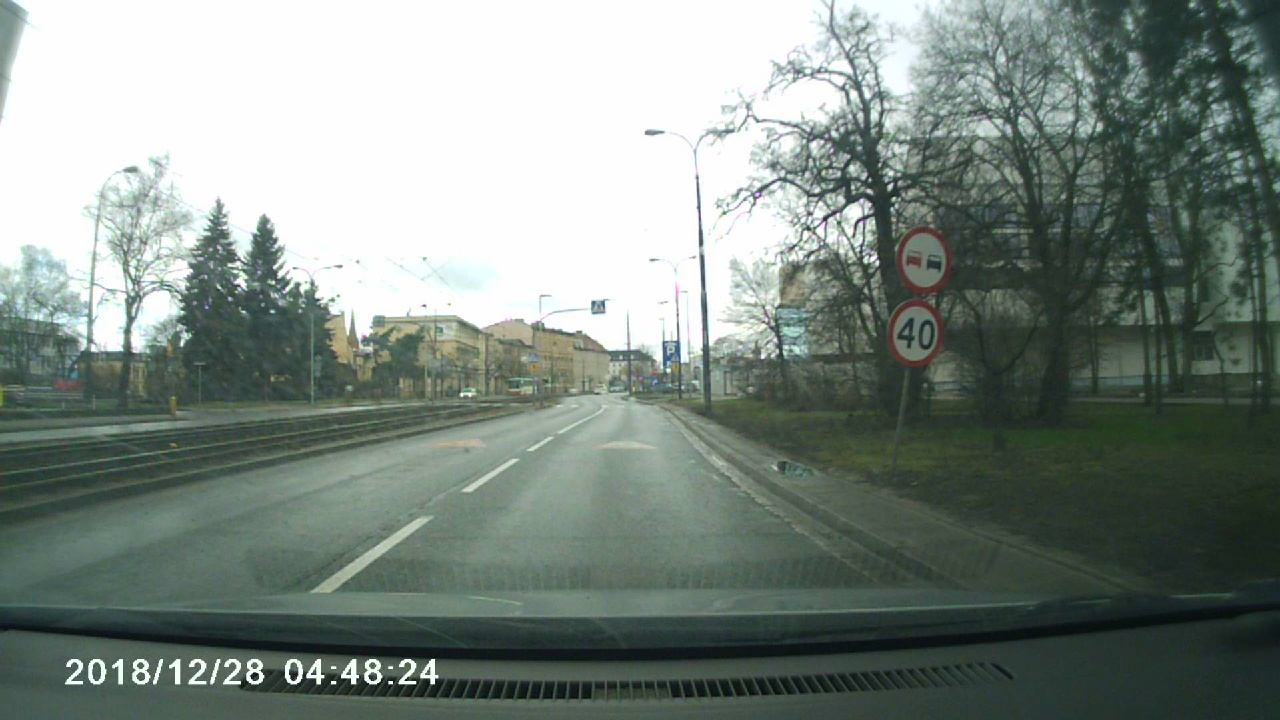B25: (897, 224, 953, 292)
B33_40: (884, 298, 946, 368)
